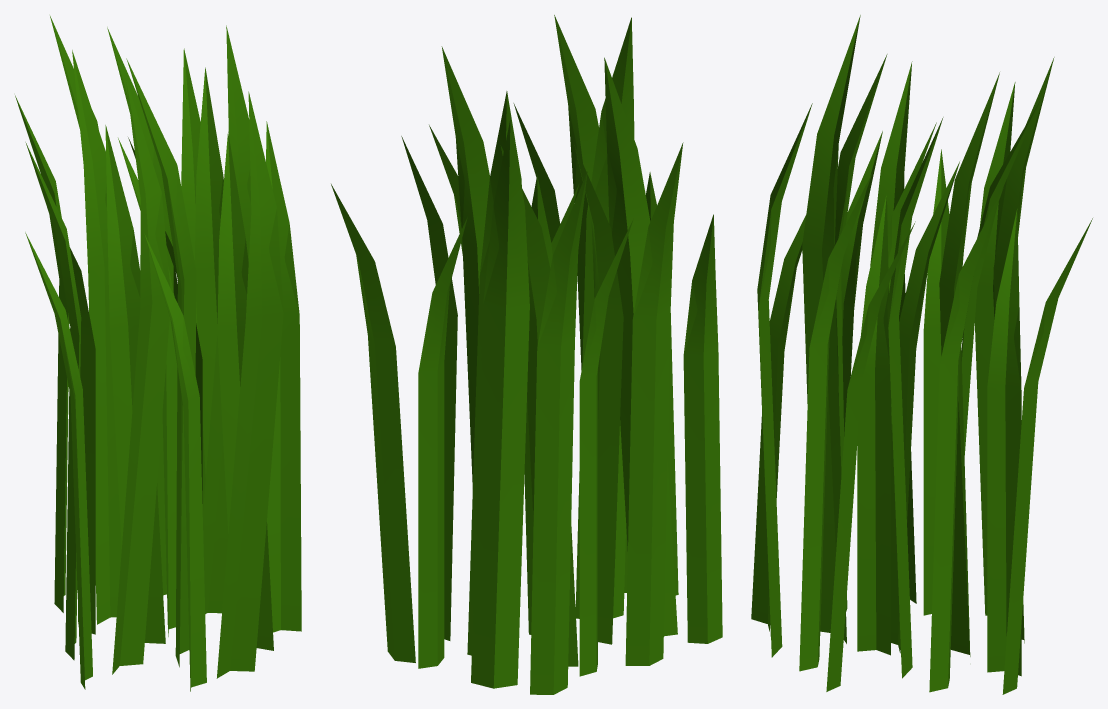
The model's file is grass_1.fbx.
3 views of the same model, side by side, from view 1: azimuth 30°, elevation 25°; view 2: azimuth 150°, elevation 25°; view 3: azimuth 270°, elevation 25° (orthographic). The views are drawn at different scales.
Parts seen in each view (by area): view 1: grass_1; view 2: grass_1; view 3: grass_1.
Part boxes in pixels (x1,y1,x2,y2): grass_1: (15,16,301,691); grass_1: (331,15,722,694); grass_1: (751,15,1092,694).
Bounding box in the file's own units: 24.35 × 53.02 × 27.31.
